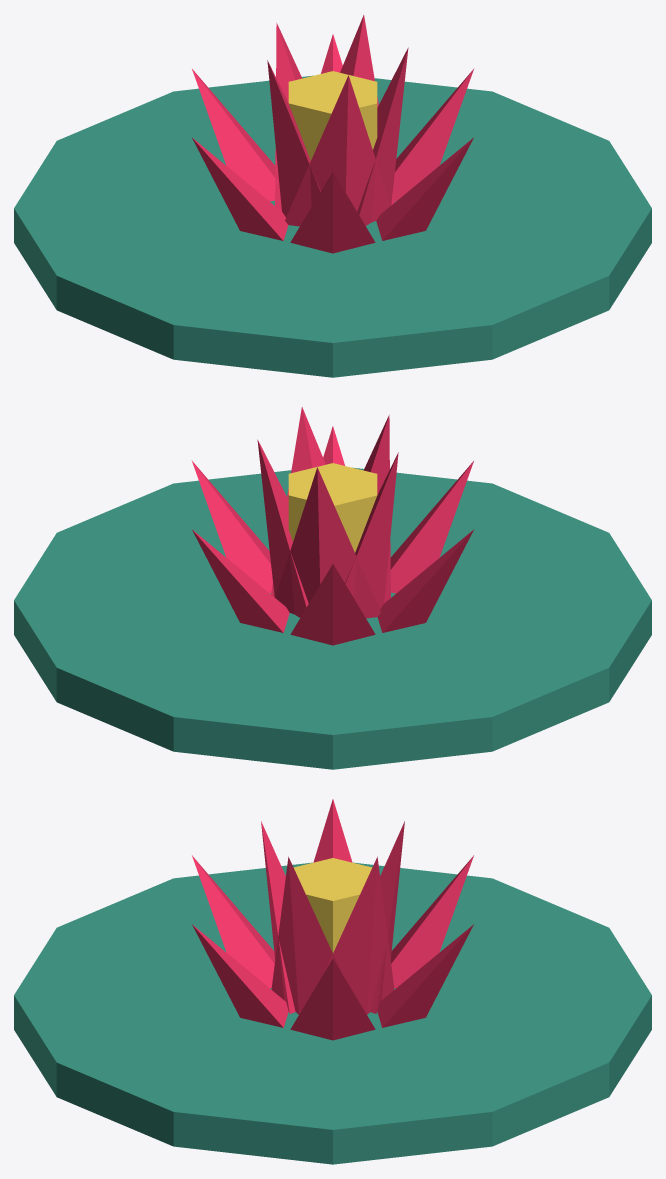
The model's file is lotus.glb.
3 renders of one model, top to bottom at view 1: azimuth 30°, elevation 25°; view 2: azimuth 150°, elevation 25°; view 3: azimuth 270°, elevation 25°, orthographic.
Parts seen in each view (by area): view 1: Pad, Petals, Heart; view 2: Pad, Petals, Heart; view 3: Pad, Petals, Heart.
Part boxes in pixels (bbox=[...]): Pad: bbox=[14, 75, 651, 377]; Petals: bbox=[192, 15, 474, 253]; Heart: bbox=[288, 71, 377, 160]; Pad: bbox=[14, 467, 651, 769]; Petals: bbox=[191, 407, 473, 645]; Heart: bbox=[288, 463, 377, 552]; Pad: bbox=[14, 862, 651, 1164]; Petals: bbox=[192, 799, 473, 1040]; Heart: bbox=[293, 858, 372, 952].
Bounding box in the file's own units: 1 × 0.3762 × 1.
